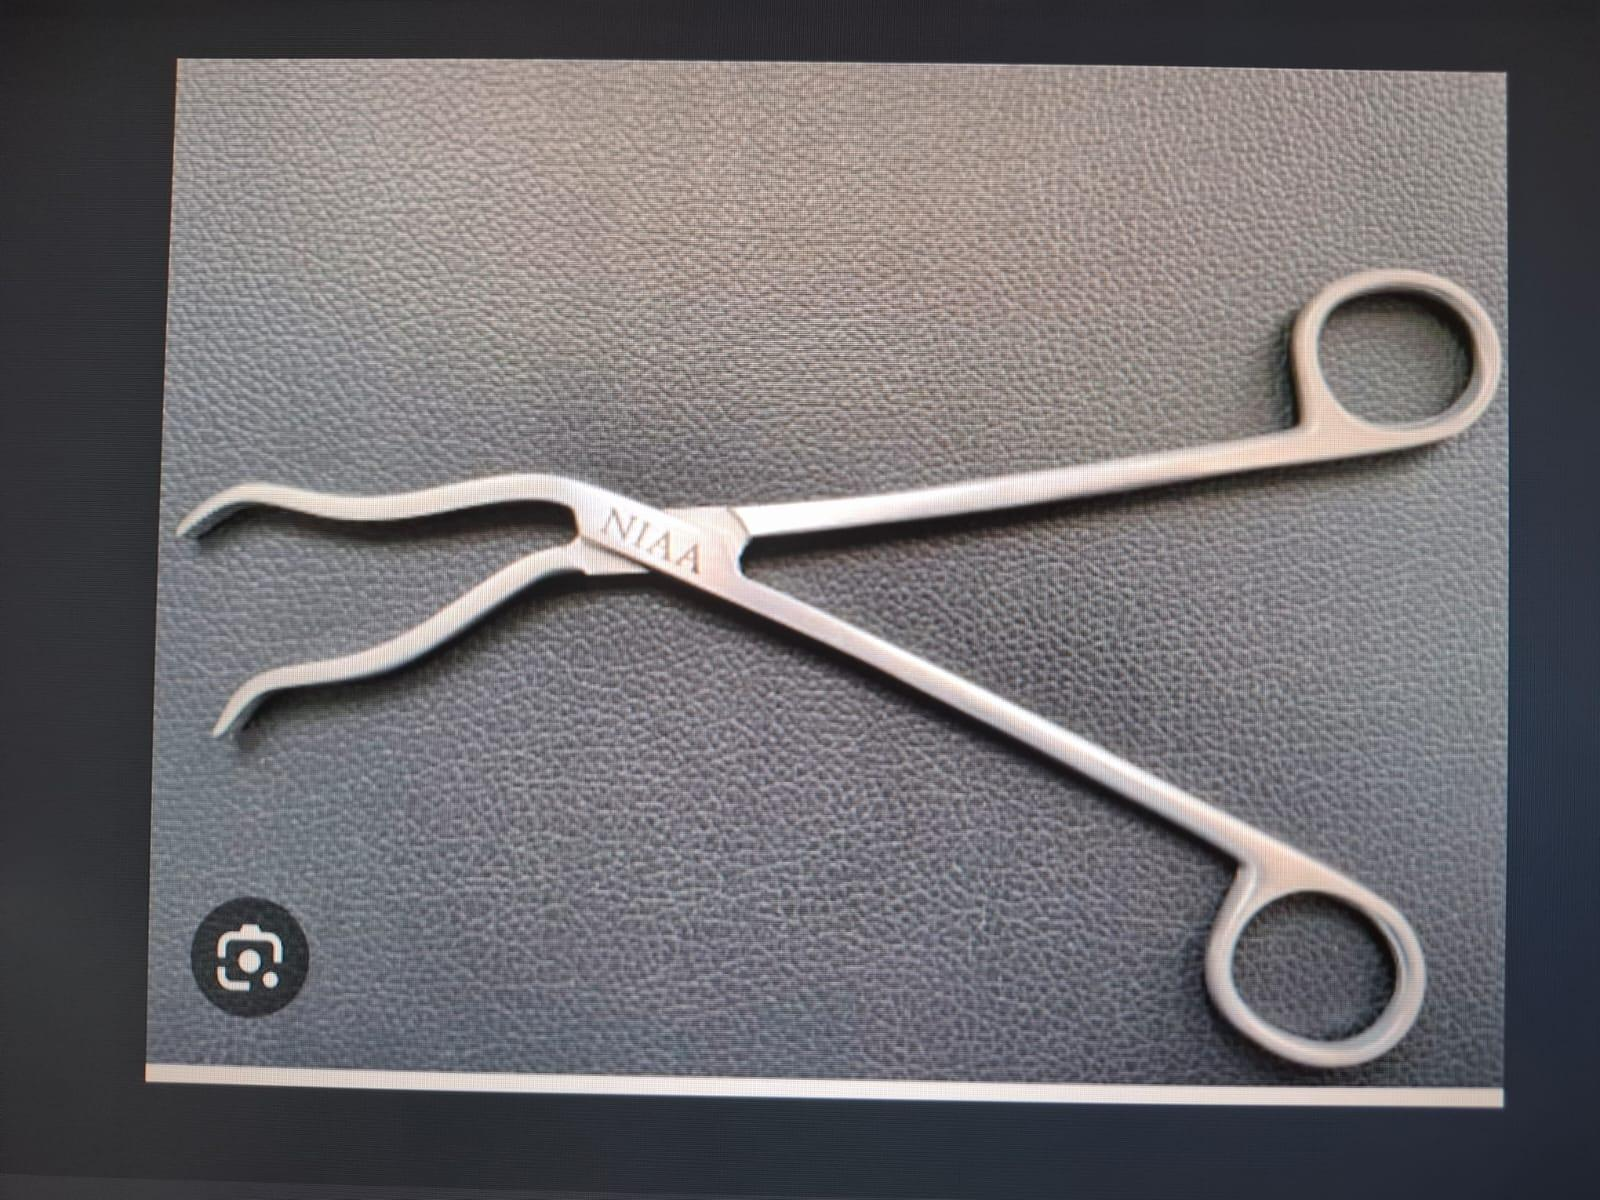Cheatle Forceps: (154, 252, 1512, 1082)
